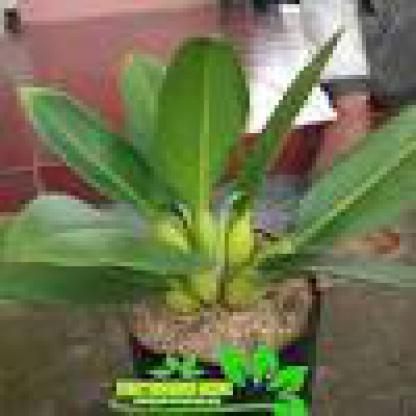Kenanga: (19, 144, 131, 299), (155, 22, 255, 156), (290, 126, 364, 222)
